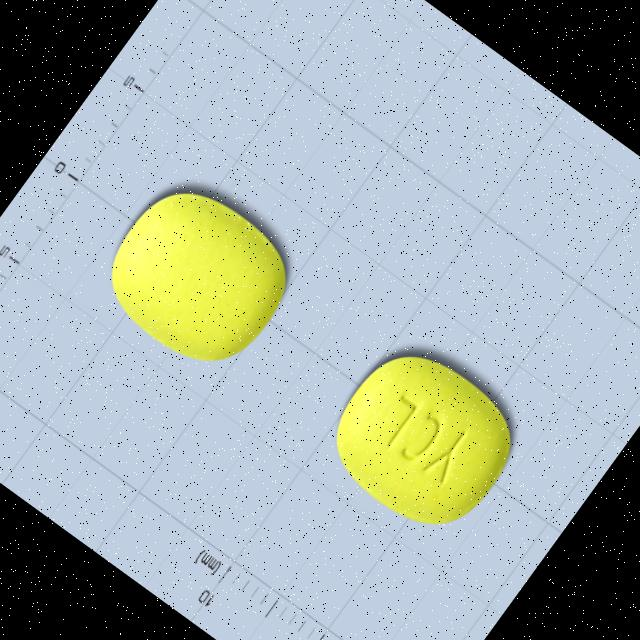Youngpoong Clarithromycin Tab: (83, 166, 309, 390), (311, 330, 535, 550)
